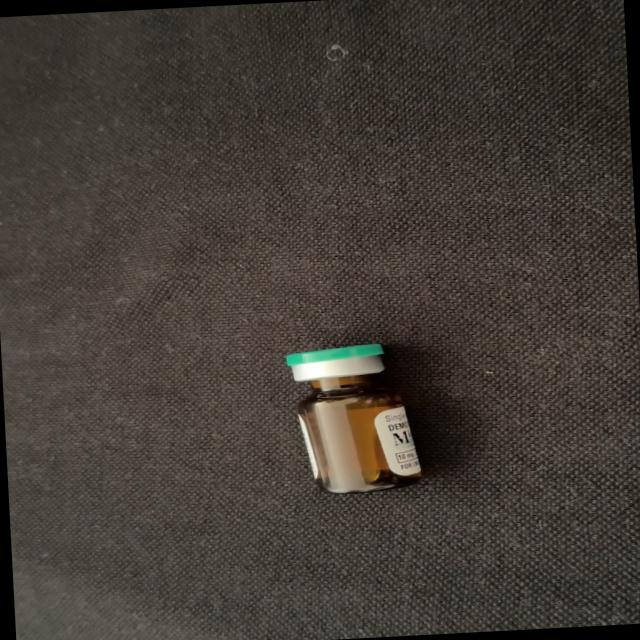midazolm: (288, 343, 422, 493)
